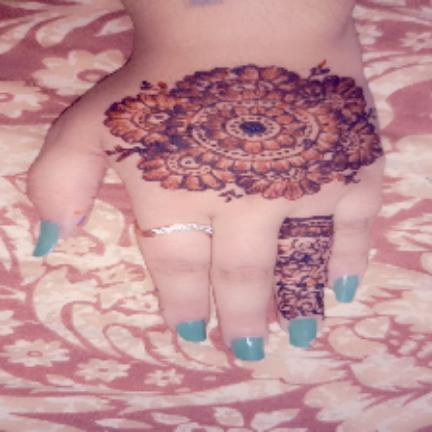Nail: (33, 220, 60, 257), (289, 318, 316, 347), (231, 338, 264, 361), (333, 275, 359, 303), (176, 320, 206, 342)
